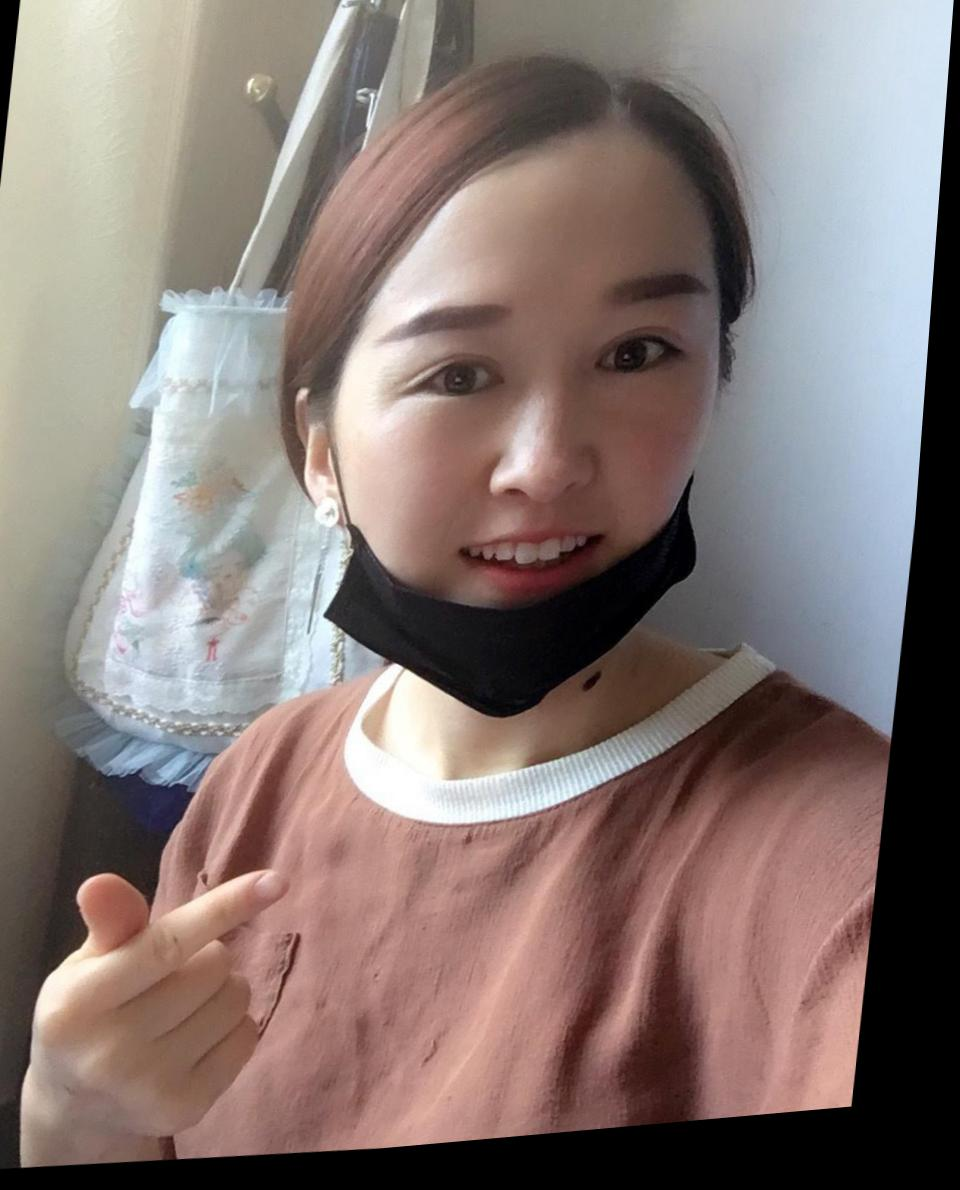WRONG: (321, 229, 735, 728)
